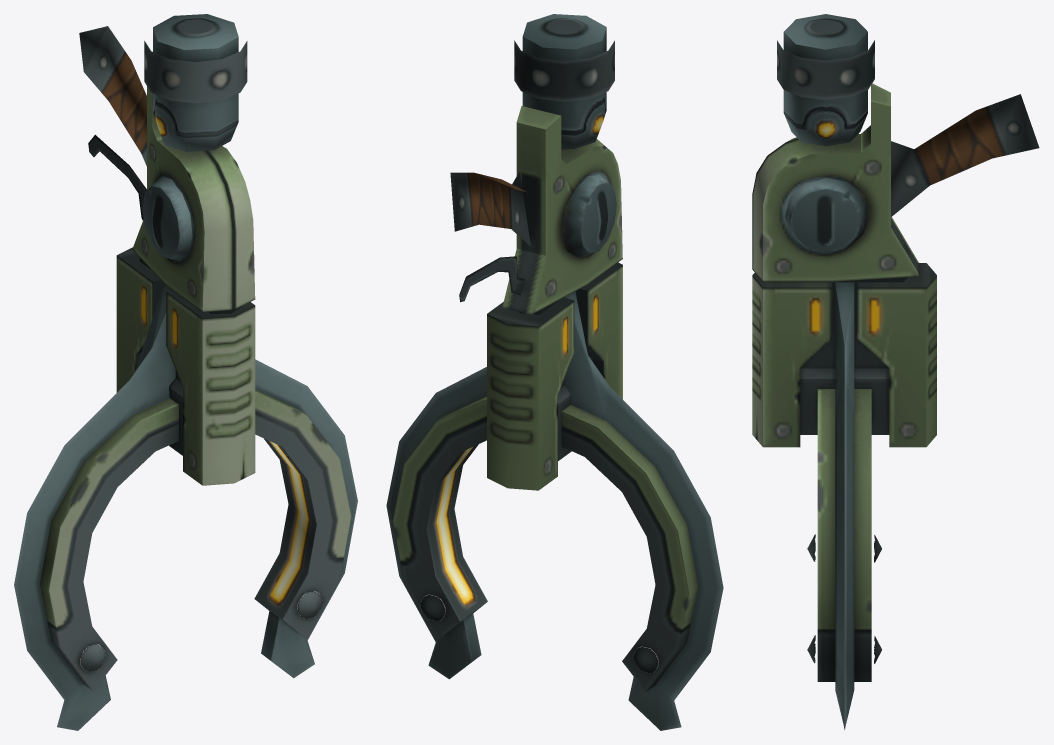
Rendered from model_star.glb.
3 renders of one model, left to right at view 1: azimuth 30°, elevation 25°; view 2: azimuth 150°, elevation 25°; view 3: azimuth 270°, elevation 25°, orthographic. The views are drawn at different scales.
Visible parts, largest first — view 1: mixer.model_star-MeshNodes["mesh_gun"], mixer.model_star-MeshNodes["mesh_starbody"]; view 2: mixer.model_star-MeshNodes["mesh_gun"], mixer.model_star-MeshNodes["mesh_starbody"]; view 3: mixer.model_star-MeshNodes["mesh_gun"], mixer.model_star-MeshNodes["mesh_starbody"].
Boxes of the visible parts, <box> form: mixer.model_star-MeshNodes["mesh_gun"]: <box>40,14,351,690</box>; mixer.model_star-MeshNodes["mesh_starbody"]: <box>14,284,357,730</box>; mixer.model_star-MeshNodes["mesh_gun"]: <box>393,14,698,691</box>; mixer.model_star-MeshNodes["mesh_starbody"]: <box>386,291,723,730</box>; mixer.model_star-MeshNodes["mesh_gun"]: <box>752,14,1039,681</box>; mixer.model_star-MeshNodes["mesh_starbody"]: <box>835,282,854,730</box>.
Size of the model in its own units: 0.5703 by 1.09 by 0.4327.
Materials: 1 (1 with a texture image).
